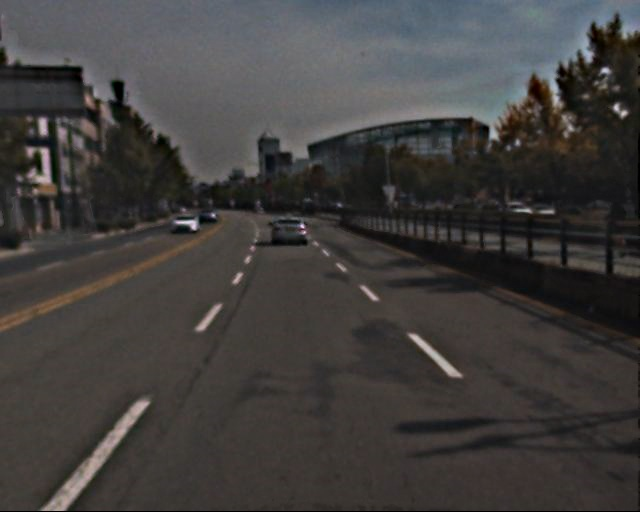person: (599, 197, 631, 260)
